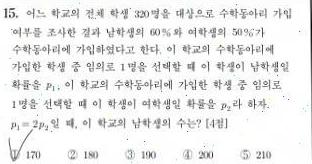choice: (6, 140, 22, 162)
not-choice: (123, 148, 136, 160), (239, 149, 252, 161), (182, 148, 193, 161), (67, 149, 78, 160)
